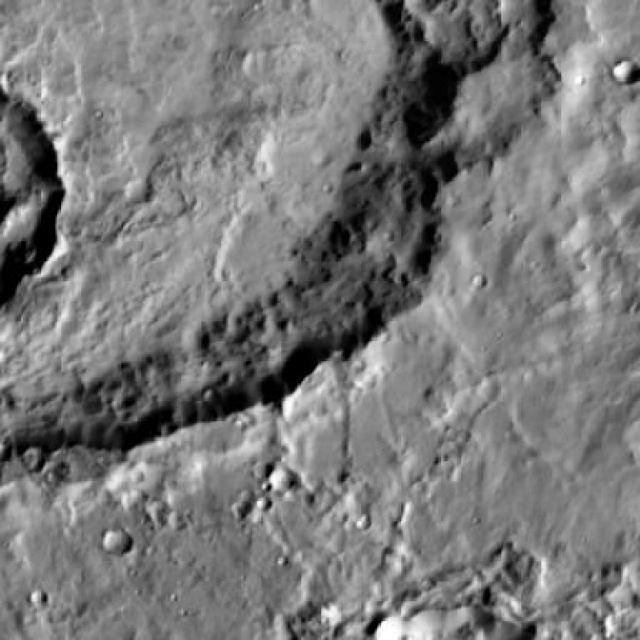crater: (0, 0, 422, 462), (371, 607, 477, 640), (99, 531, 126, 555), (268, 464, 294, 488), (610, 59, 636, 82), (146, 496, 166, 515), (28, 593, 47, 610)
